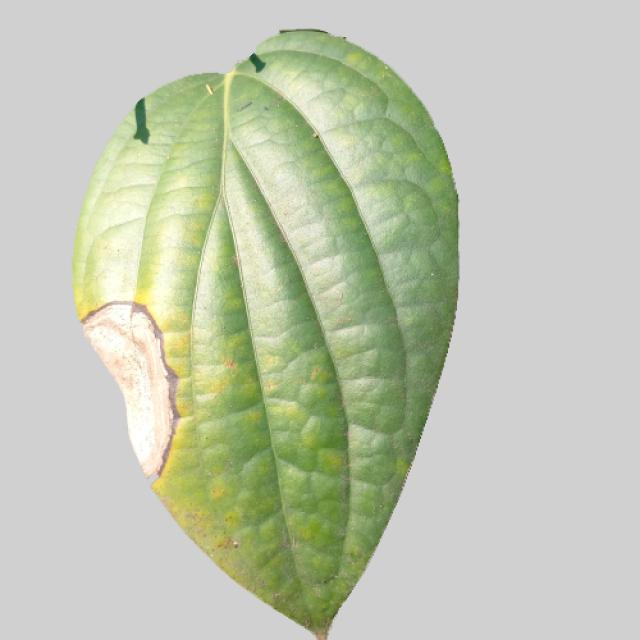leaf-blight: (70, 27, 460, 640)
